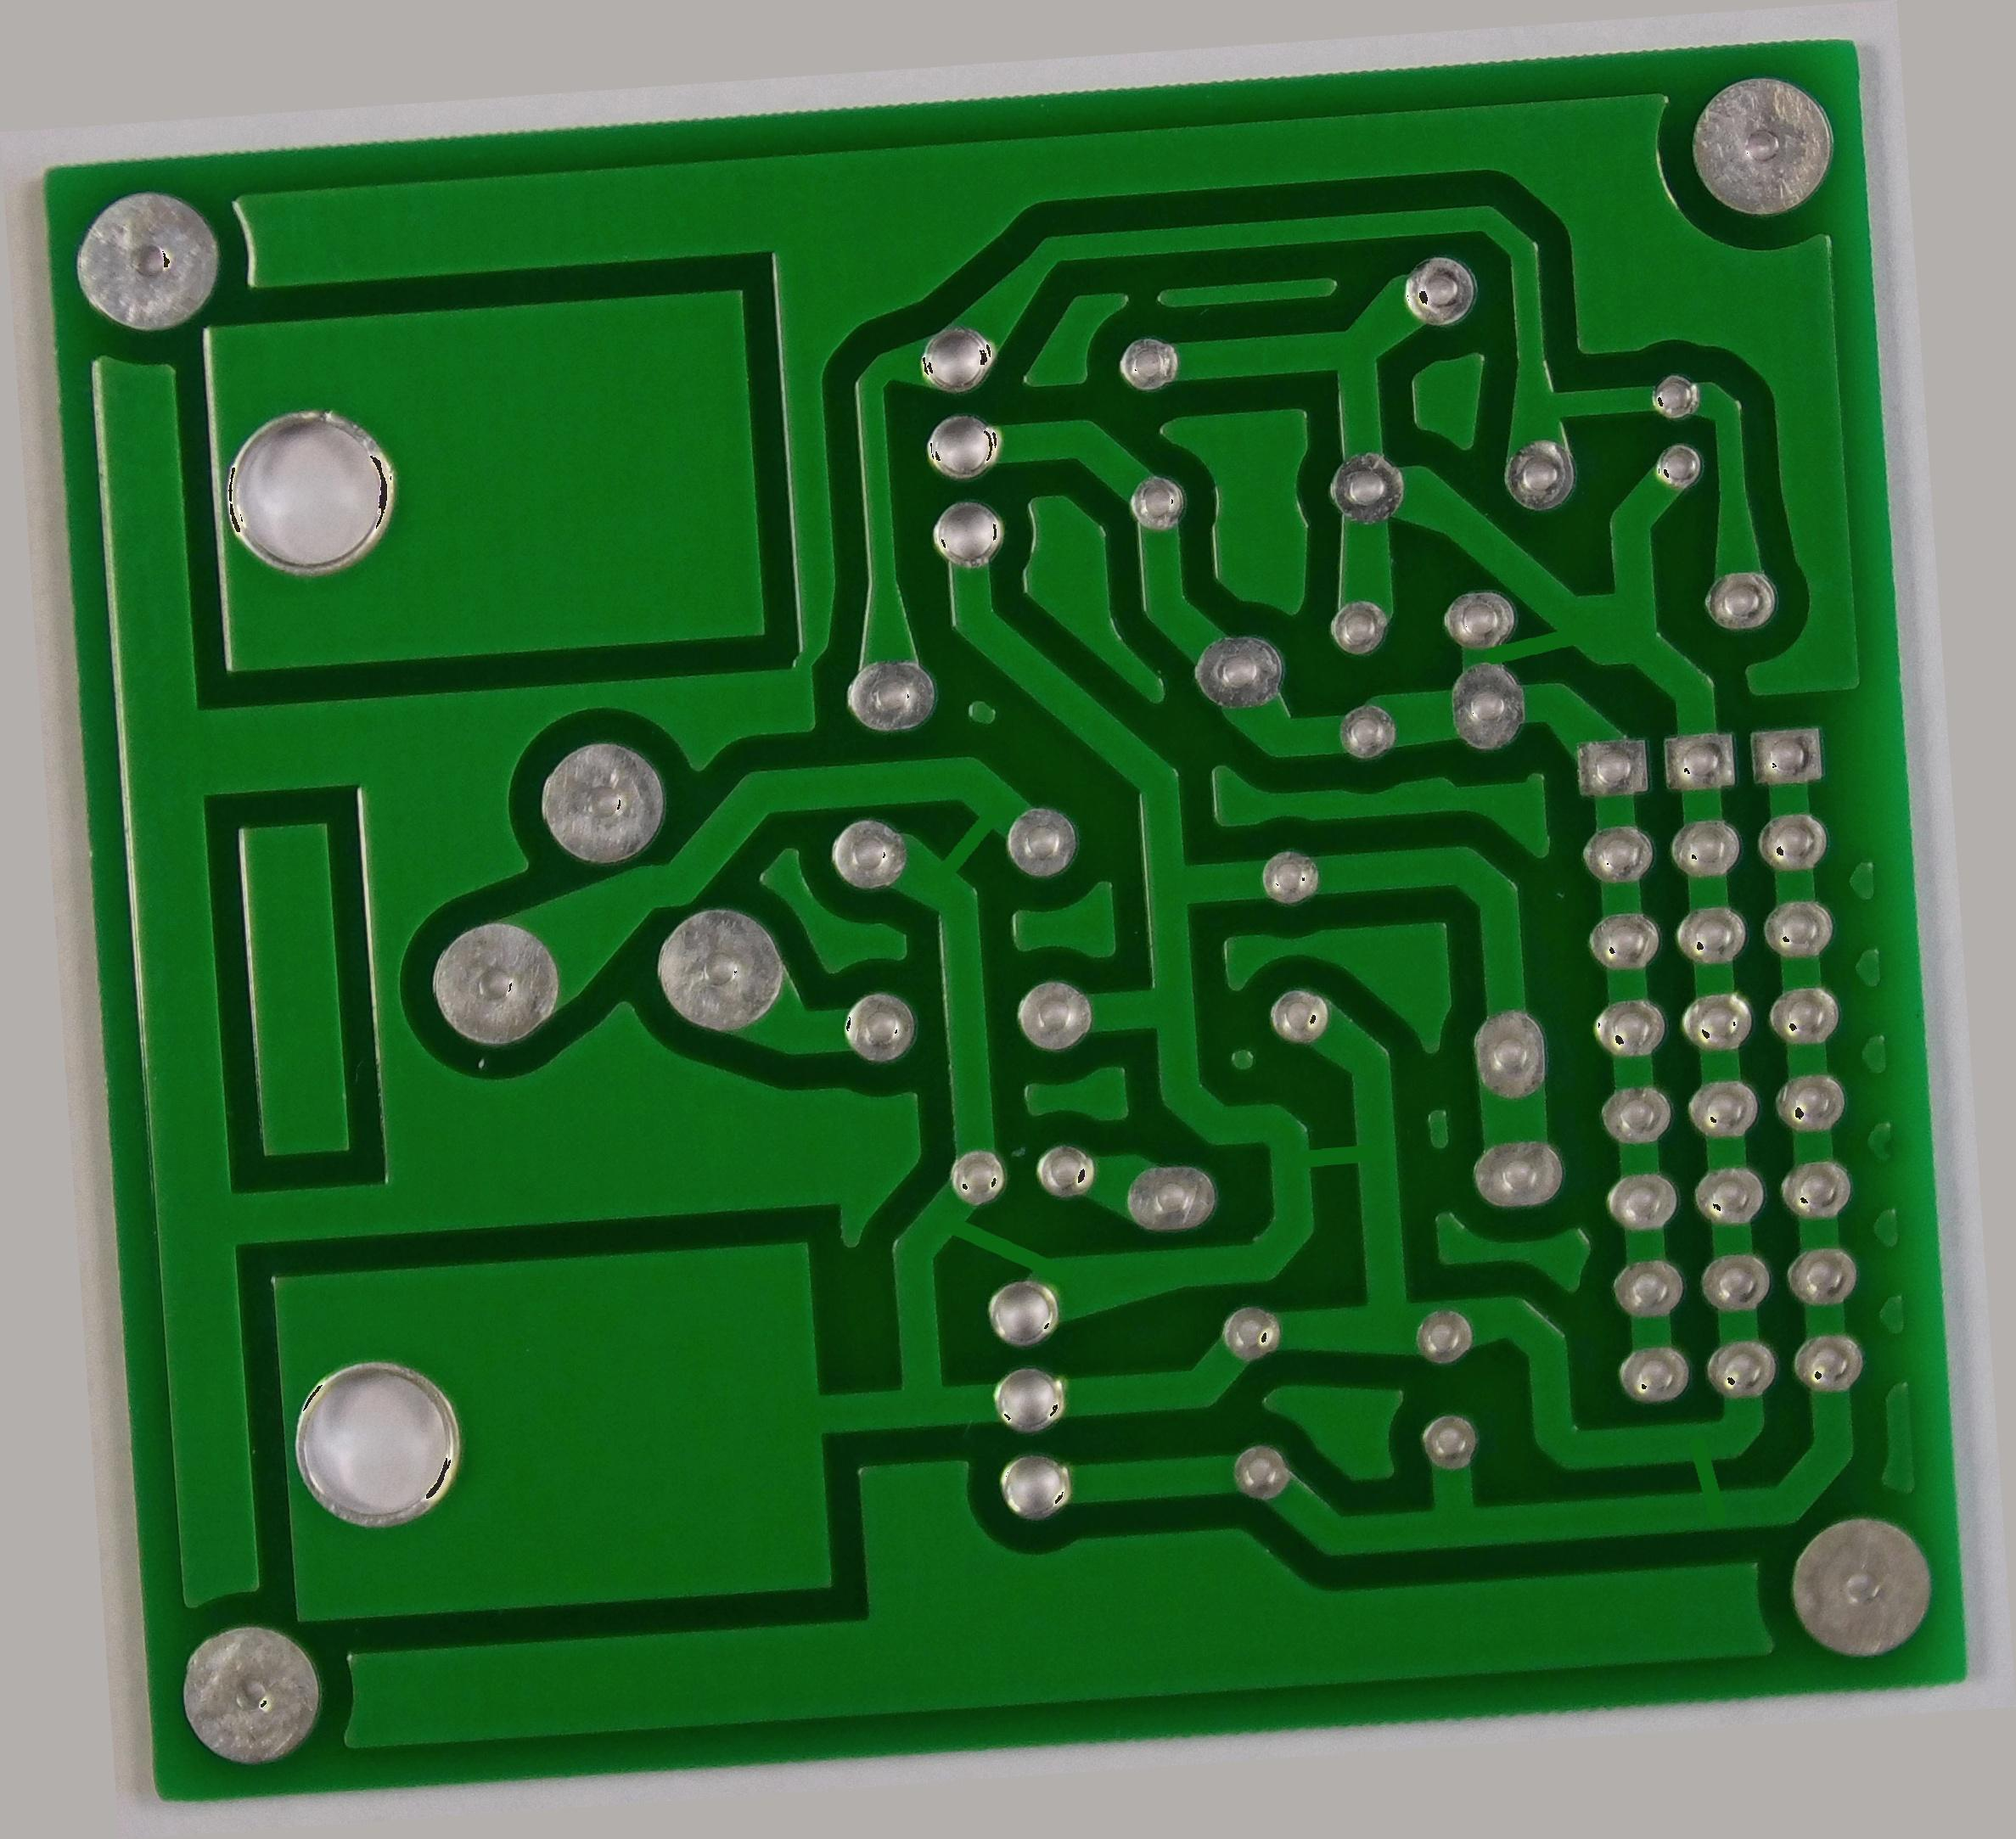short: (1436, 571, 1619, 713), (918, 1177, 1080, 1326), (903, 783, 1036, 906), (1254, 1107, 1408, 1210), (1654, 1409, 1753, 1544)
